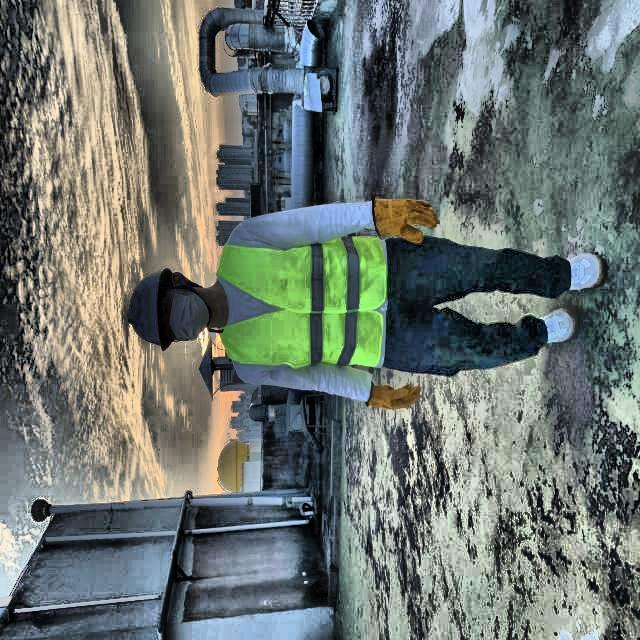gloved: (369, 192, 441, 249), (355, 375, 434, 421)
